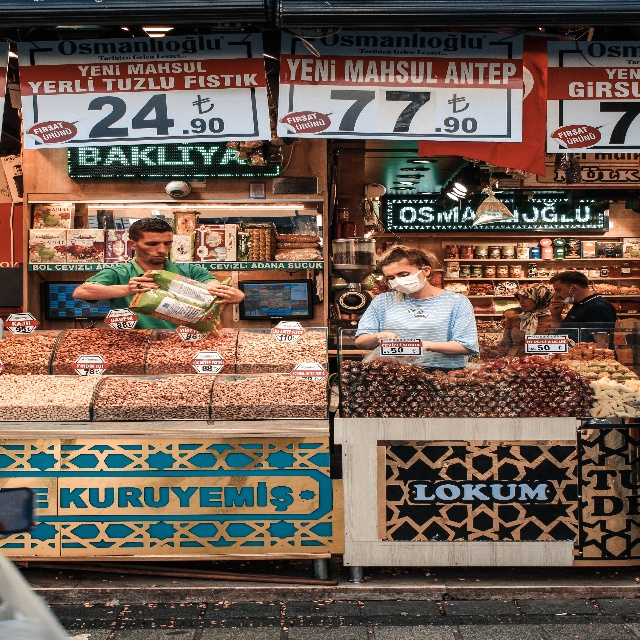Mascara: (387, 264, 427, 292), (563, 286, 574, 304)
Sin_guantes: (208, 282, 245, 307), (128, 274, 160, 295), (376, 330, 397, 345)
